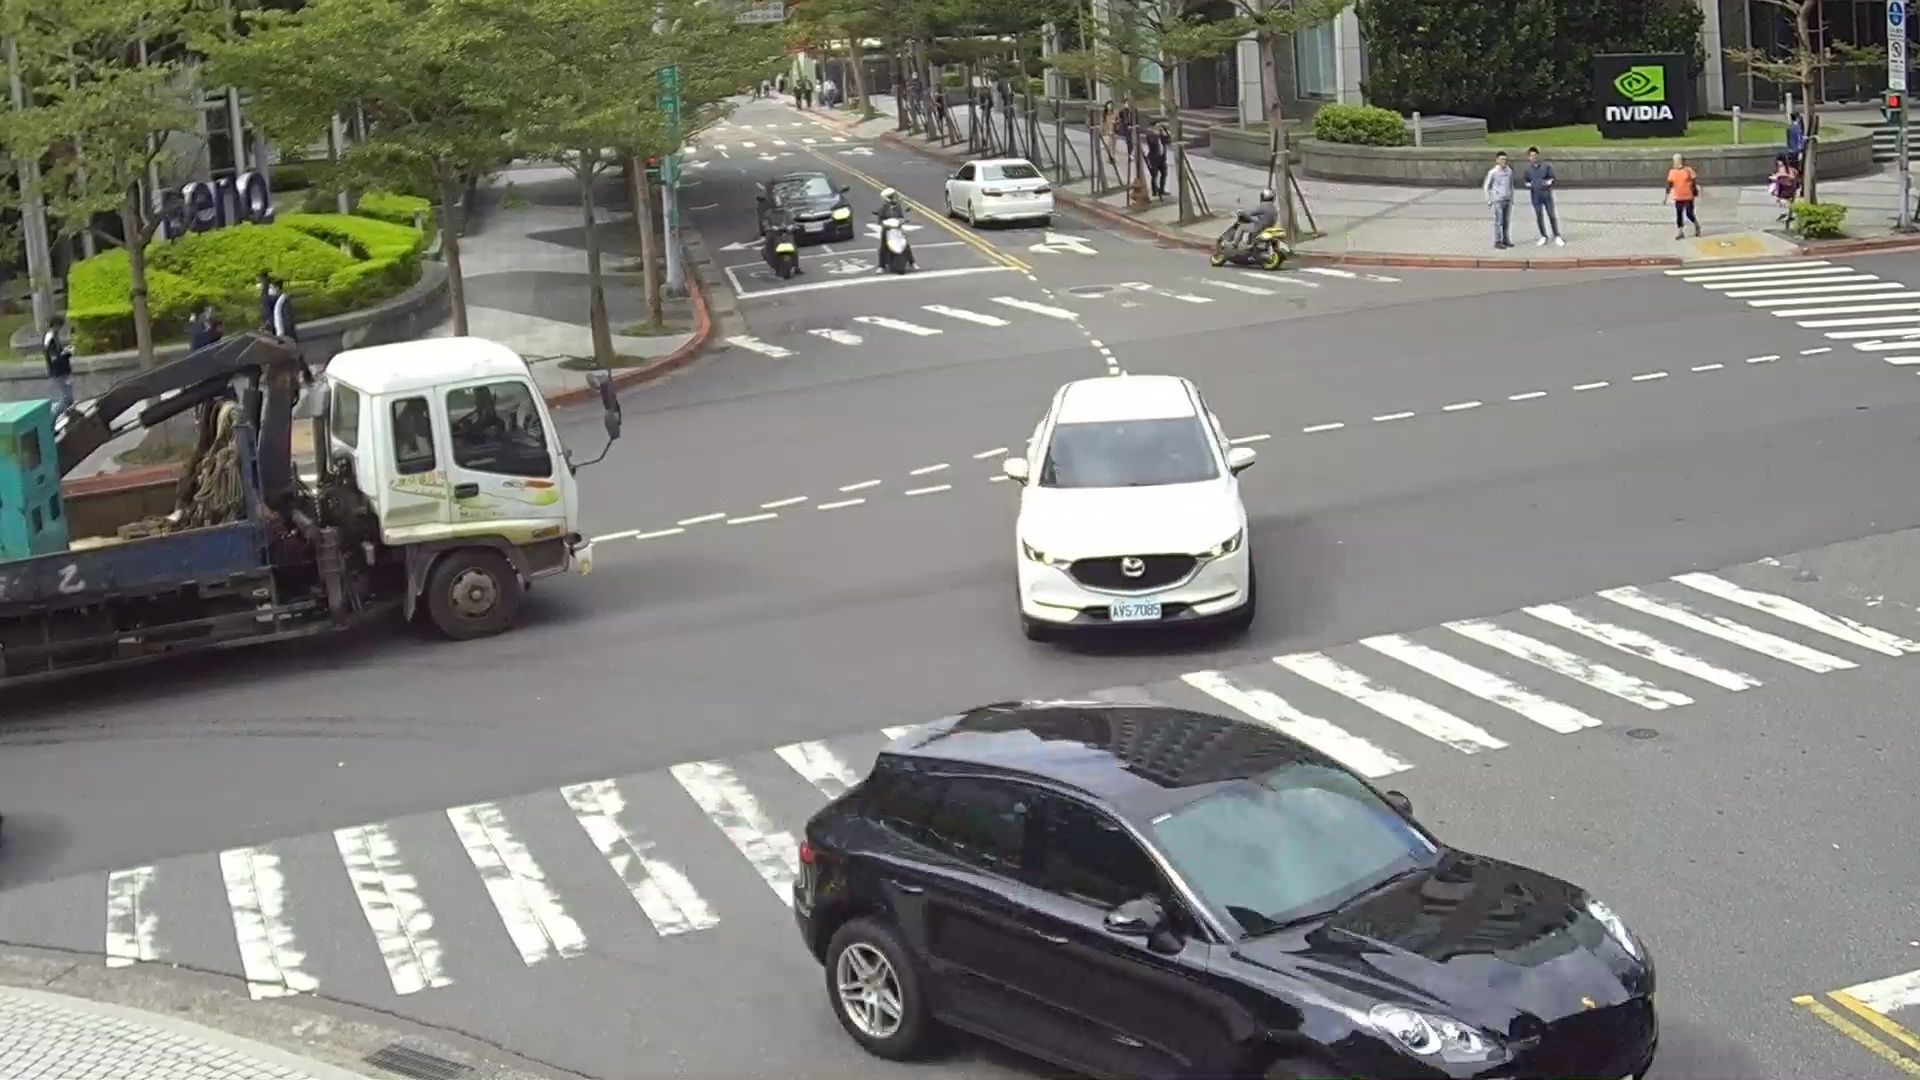bike: (1212, 222, 1288, 268), (874, 218, 918, 275), (765, 227, 800, 278)
pedestrian: (1515, 145, 1560, 246), (257, 282, 316, 357), (1484, 152, 1518, 248), (1225, 190, 1278, 252), (1664, 154, 1702, 238), (44, 312, 75, 413), (871, 186, 912, 254), (181, 292, 216, 353), (1111, 95, 1136, 175), (1143, 124, 1168, 198), (765, 195, 794, 254), (1768, 154, 1800, 204), (931, 95, 950, 145), (817, 81, 836, 108)
vehicle: (789, 701, 1654, 1080), (1, 307, 603, 758), (1007, 367, 1260, 644), (941, 158, 1054, 229), (757, 170, 852, 248)
